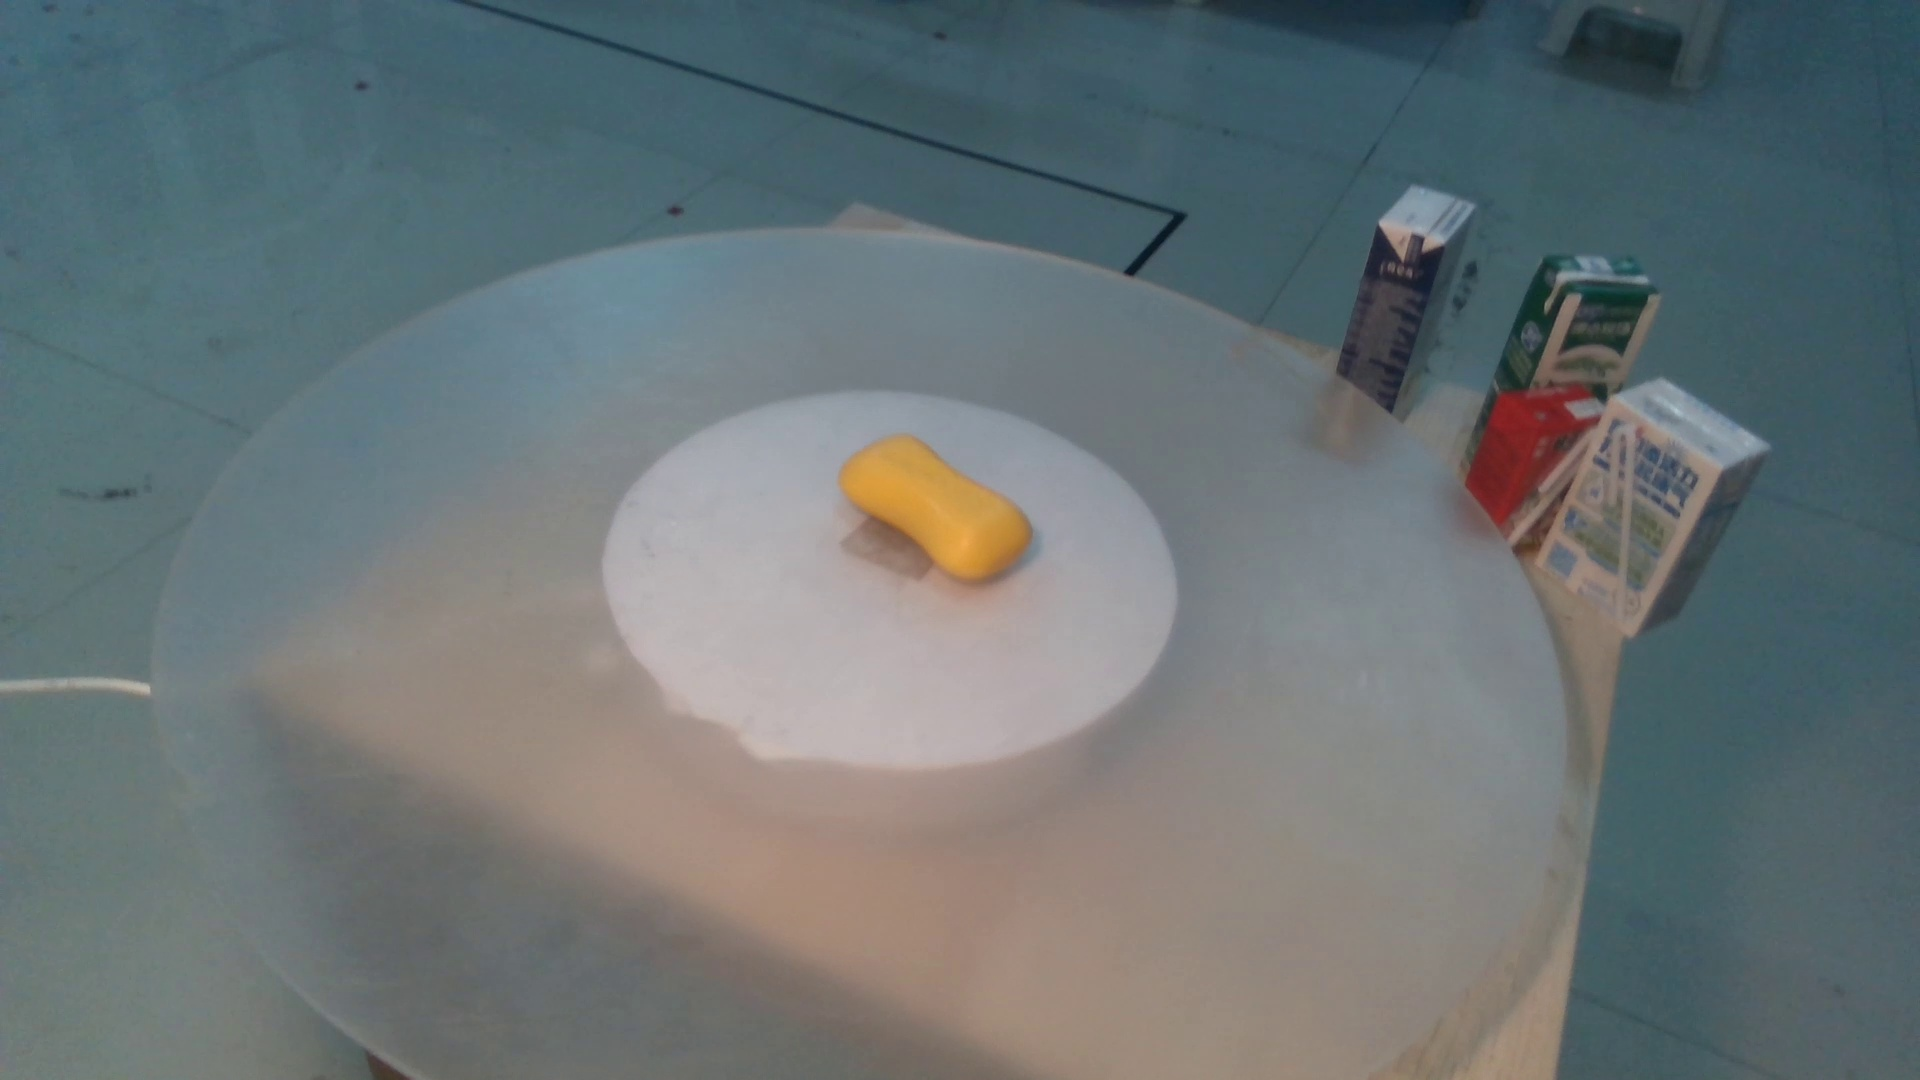CA003_1: (828, 426, 1073, 580)
